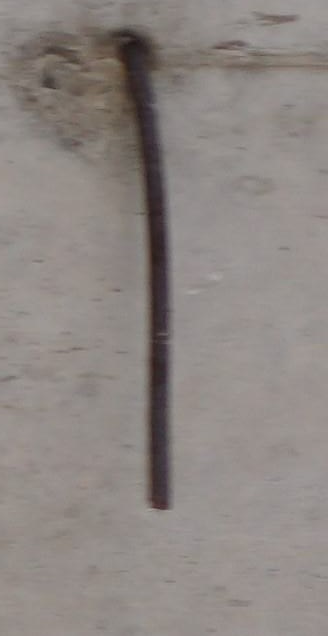Exposed reinforcement: (120, 38, 171, 513)
Spalling: (11, 30, 104, 167)
